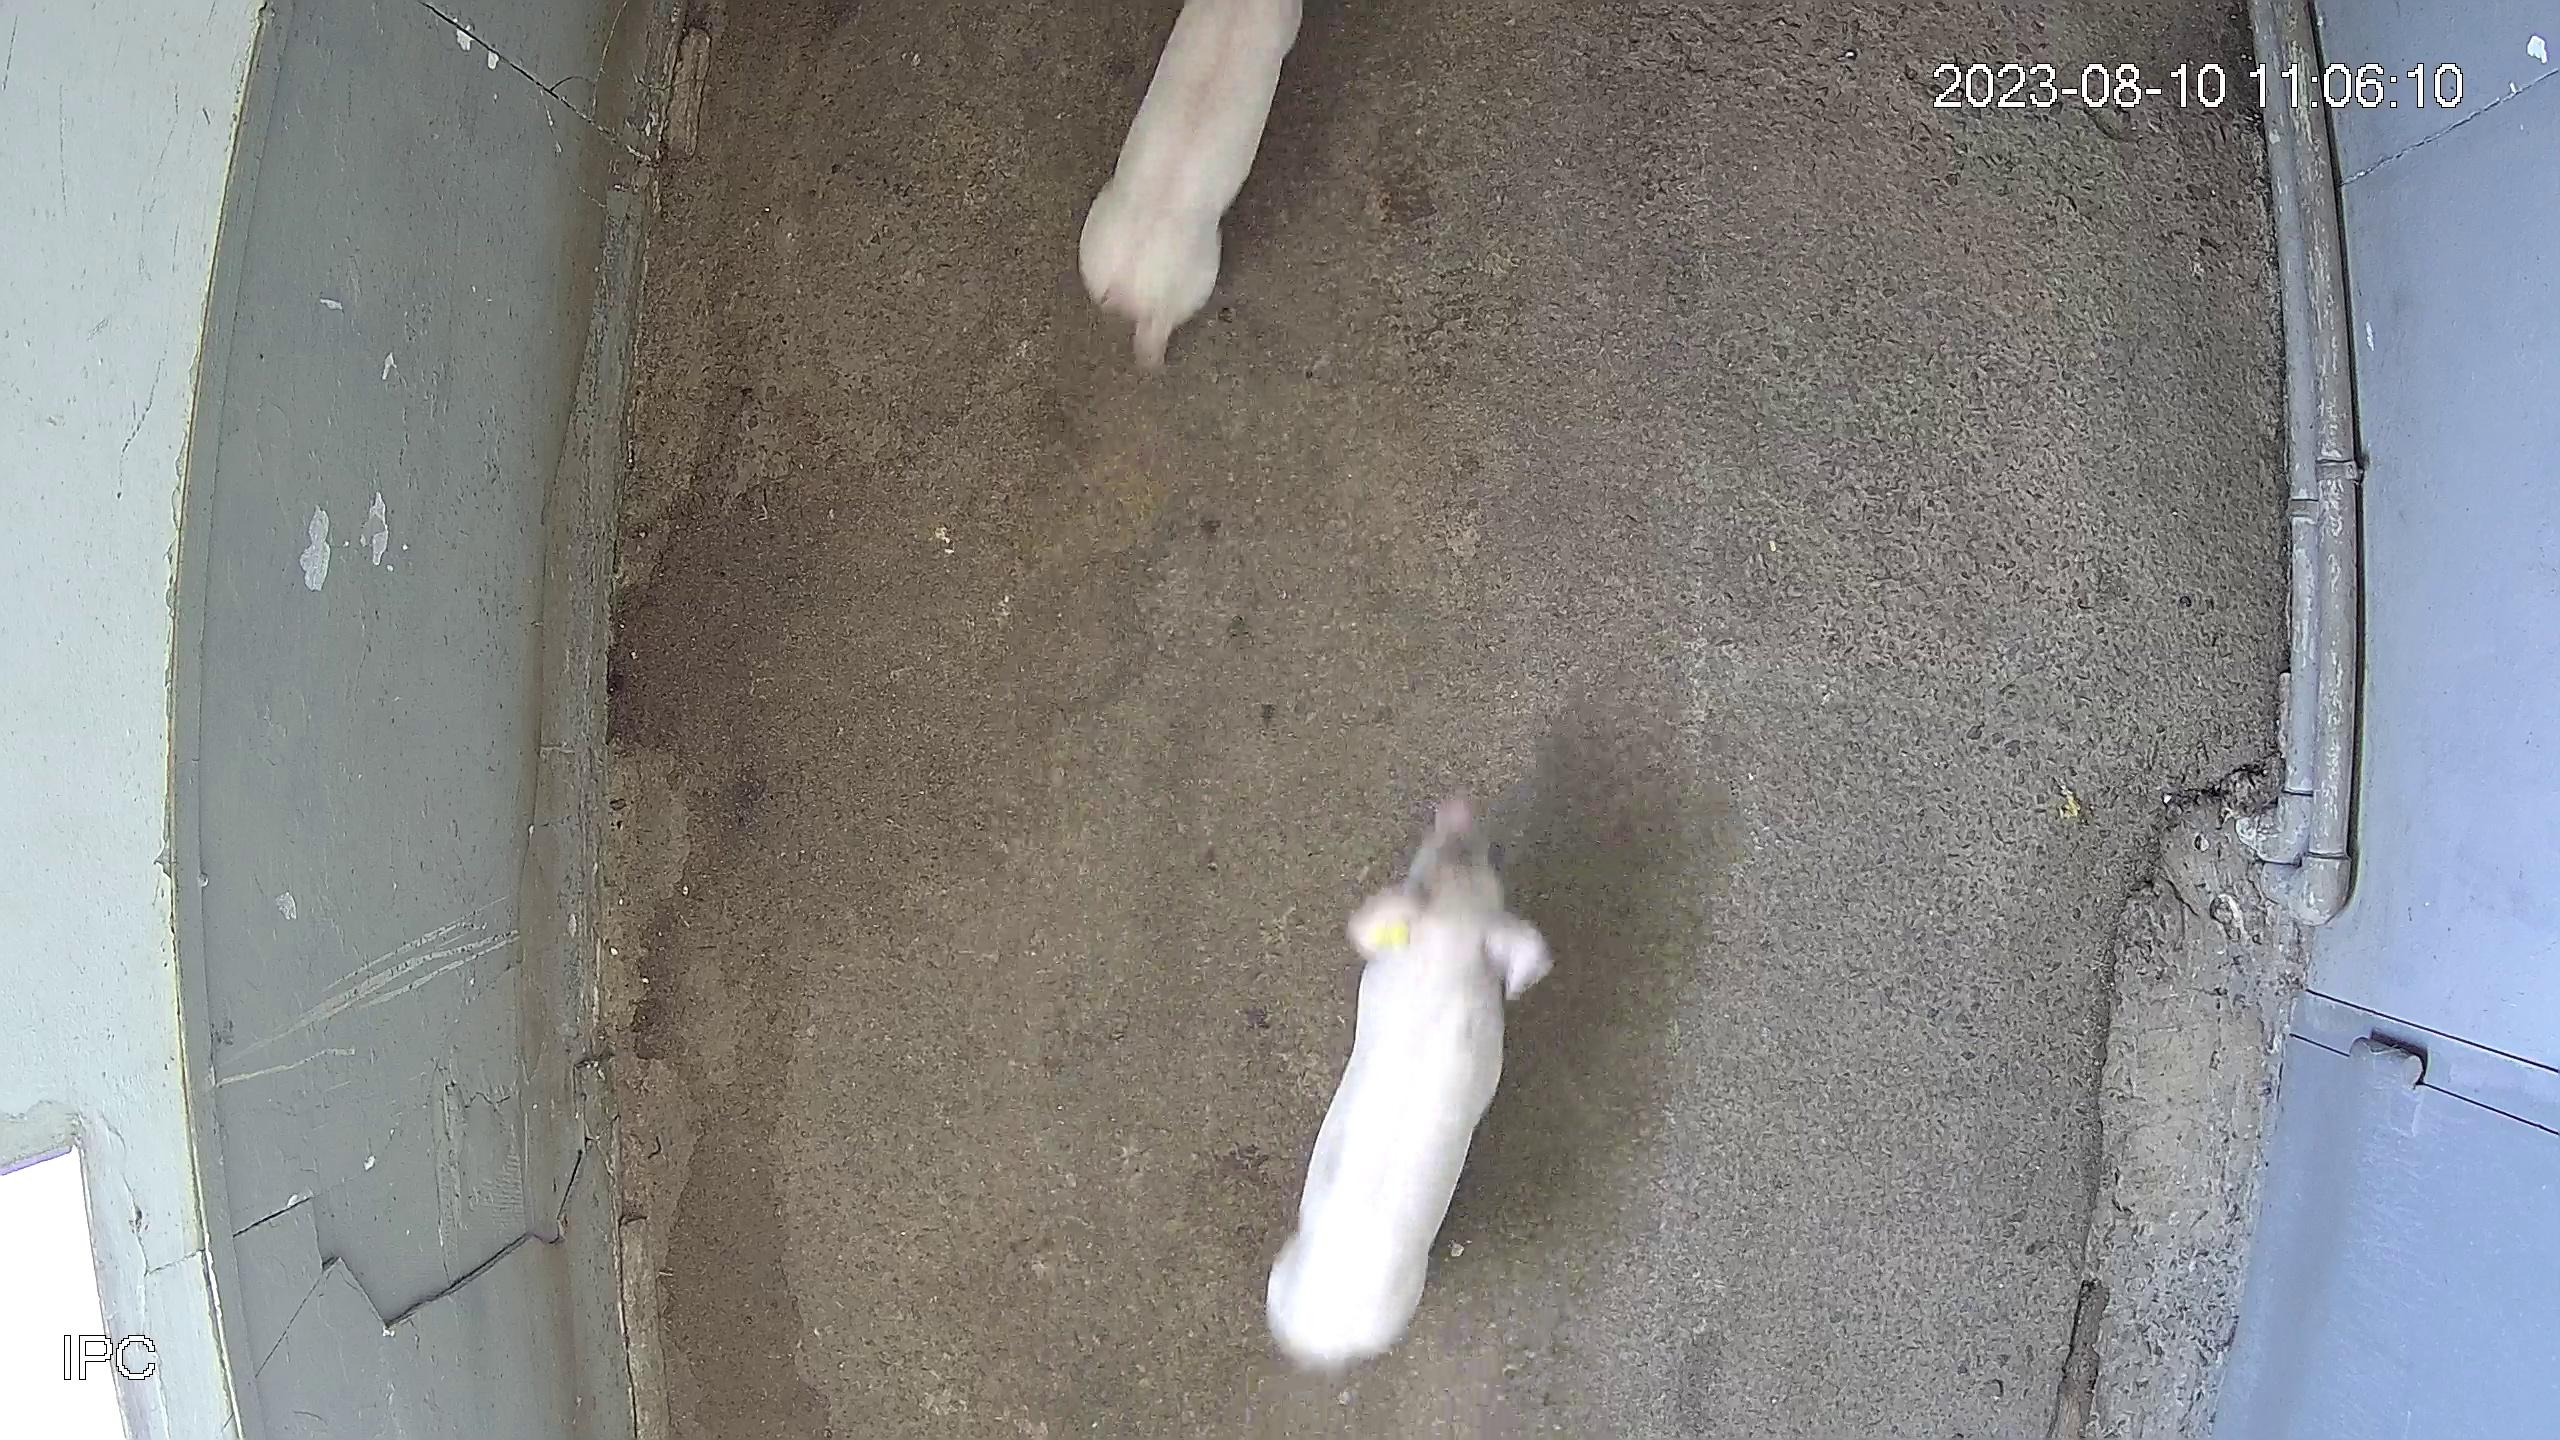Pig: (1269, 796, 1553, 1370), (1080, 0, 1301, 366)
